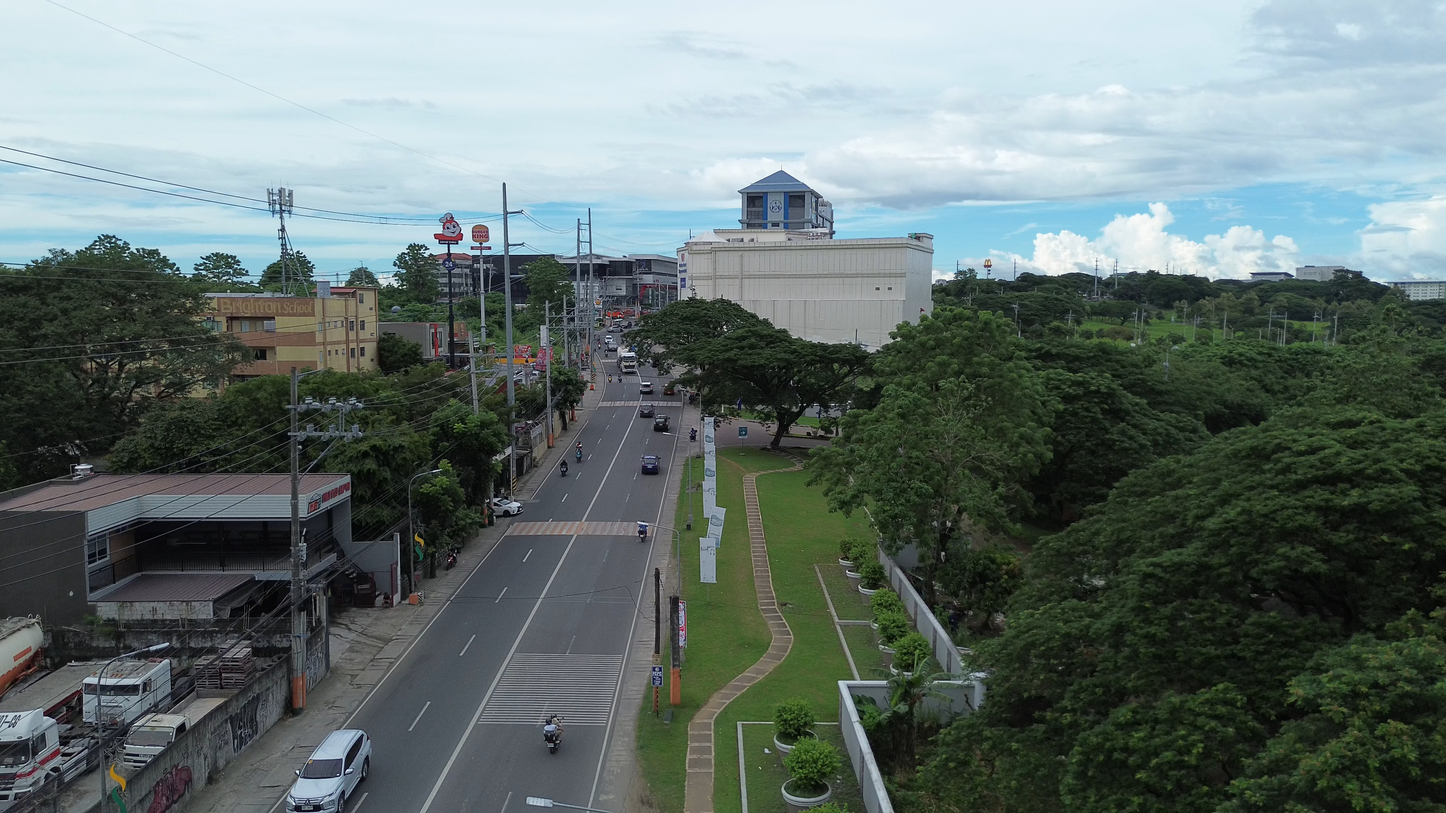car: (285, 729, 371, 813), (491, 498, 523, 516), (641, 455, 659, 473), (639, 403, 655, 417), (639, 381, 653, 394), (609, 324, 622, 332)
motorcycle: (543, 715, 563, 754), (445, 547, 458, 570), (560, 461, 568, 477)
truck: (121, 697, 226, 769)
vehicle: (0, 709, 98, 810), (82, 659, 171, 728), (0, 617, 43, 695), (543, 715, 563, 754), (618, 350, 638, 374), (444, 547, 458, 570), (653, 414, 669, 432), (663, 381, 675, 396), (560, 460, 568, 477), (609, 324, 622, 332), (690, 428, 697, 442)
